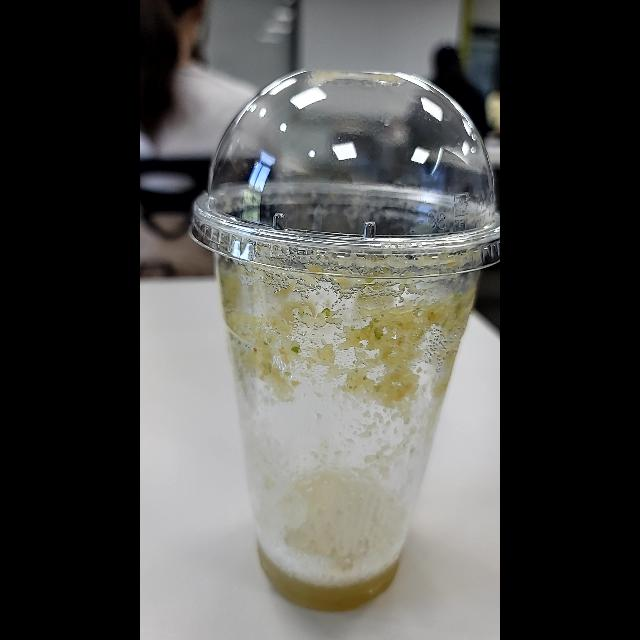plastic_cup: (185, 63, 500, 613)
plastic_cup_lid: (176, 65, 500, 278)
